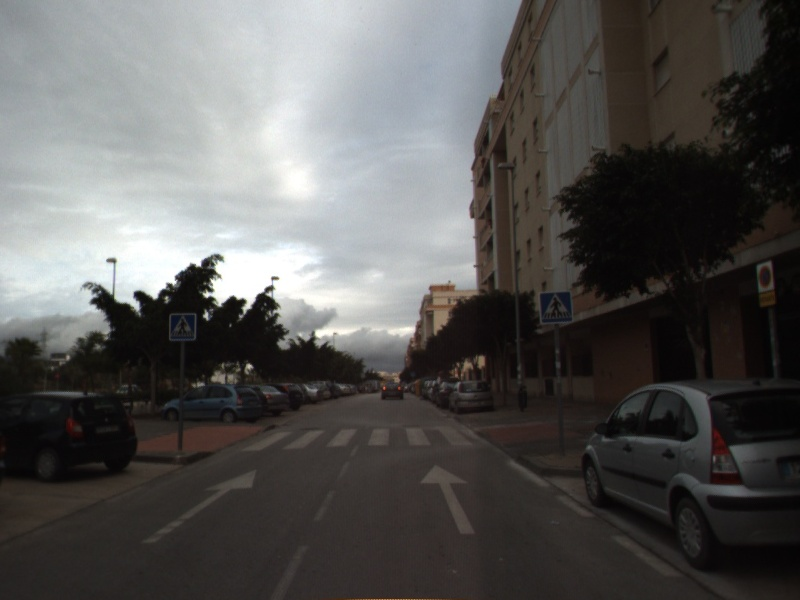STRAIGHT: (139, 468, 258, 545), (418, 463, 477, 536)
